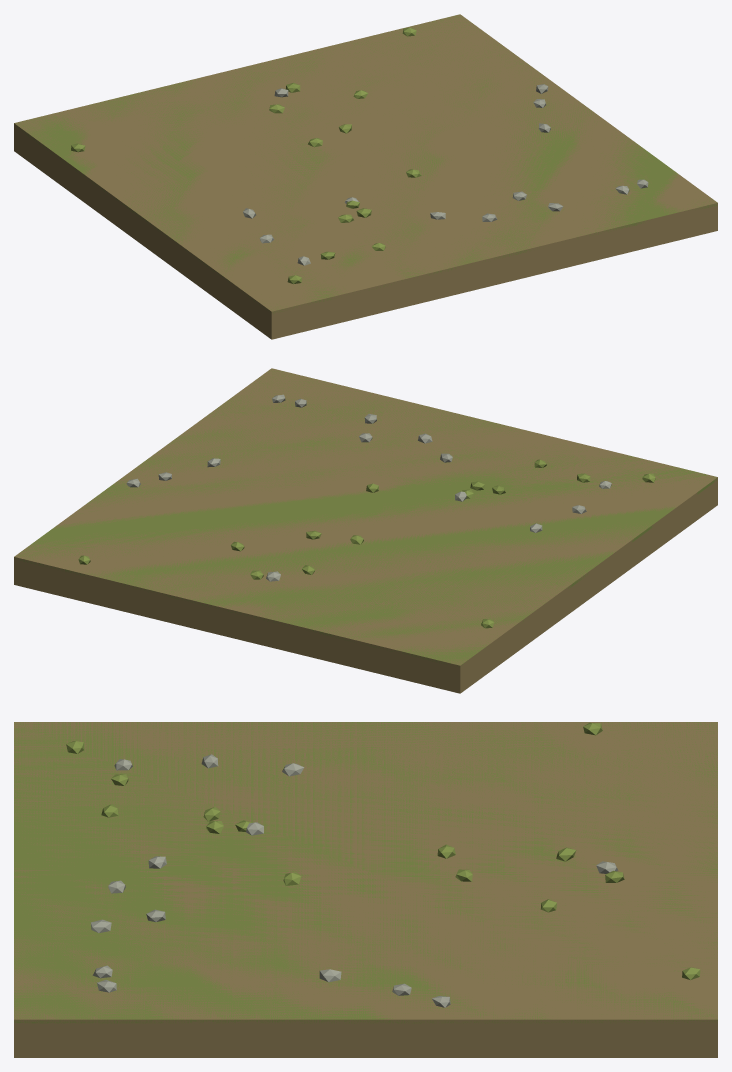
Rendered from BP_Tile_Ground_4m.fbx.
The picture shows the model from 3 angles, top to bottom: view 1: azimuth 30°, elevation 25°; view 2: azimuth 150°, elevation 25°; view 3: azimuth 270°, elevation 25°; orthographic projection. The views are drawn at different scales.
Parts seen in each view (by area): view 1: BP_Tile_Ground_4m; view 2: BP_Tile_Ground_4m; view 3: BP_Tile_Ground_4m.
Boxes of the visible parts, x1=… form: BP_Tile_Ground_4m: x1=14, y1=14, x2=717, y2=339; BP_Tile_Ground_4m: x1=14, y1=368, x2=717, y2=693; BP_Tile_Ground_4m: x1=14, y1=722, x2=717, y2=1057.
Bounding box in the file's own units: 400 × 31.57 × 400.
